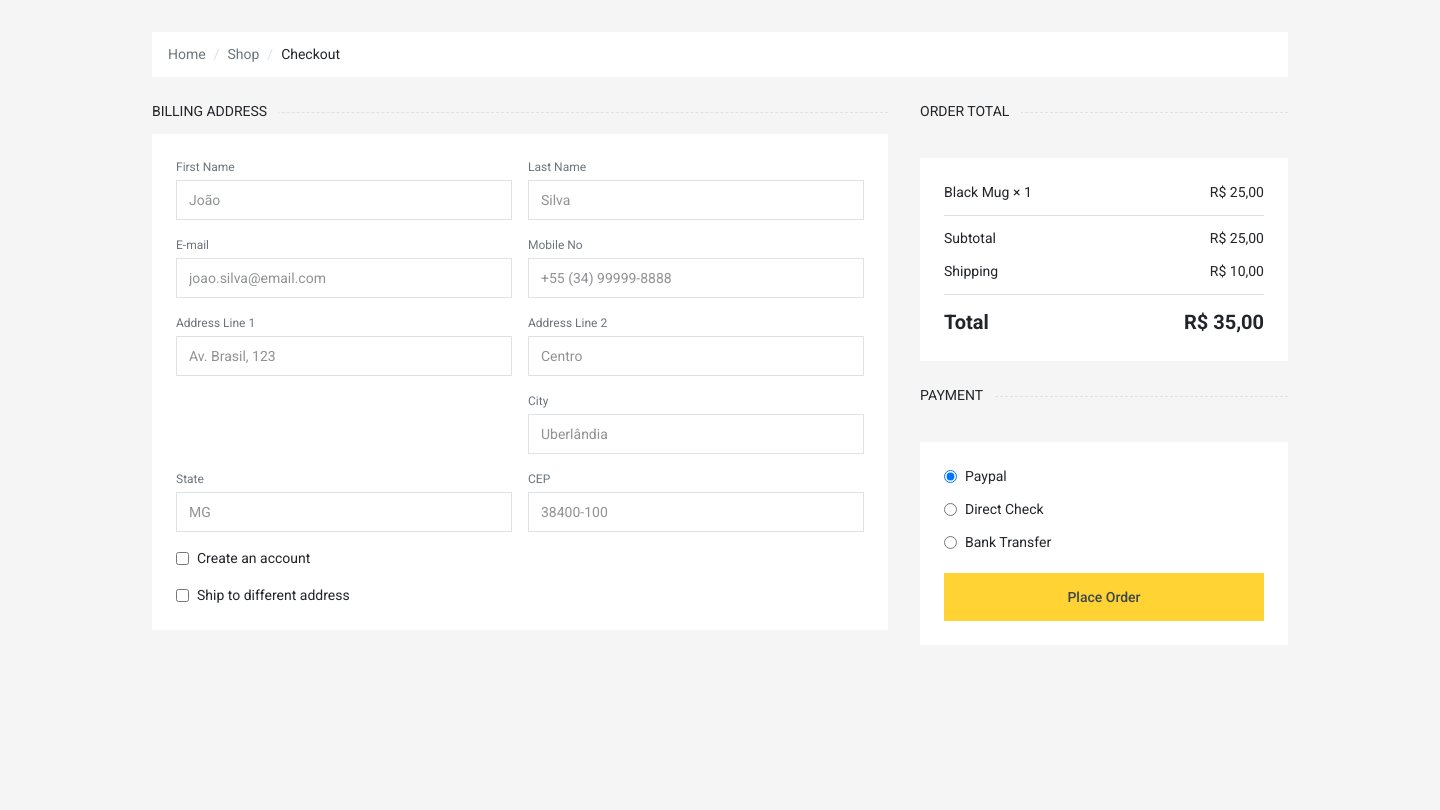
Test case: Checkout › reveals the shipping address fields when asked to ship to a different address
Expected: the text "Black Mug × 1" is shown, [944,182,1032,203]
Expected: the heading "Shipping Address" is not shown
Click the checkbox labelled "Ship to different address": (182, 596) [176,589,189,602]
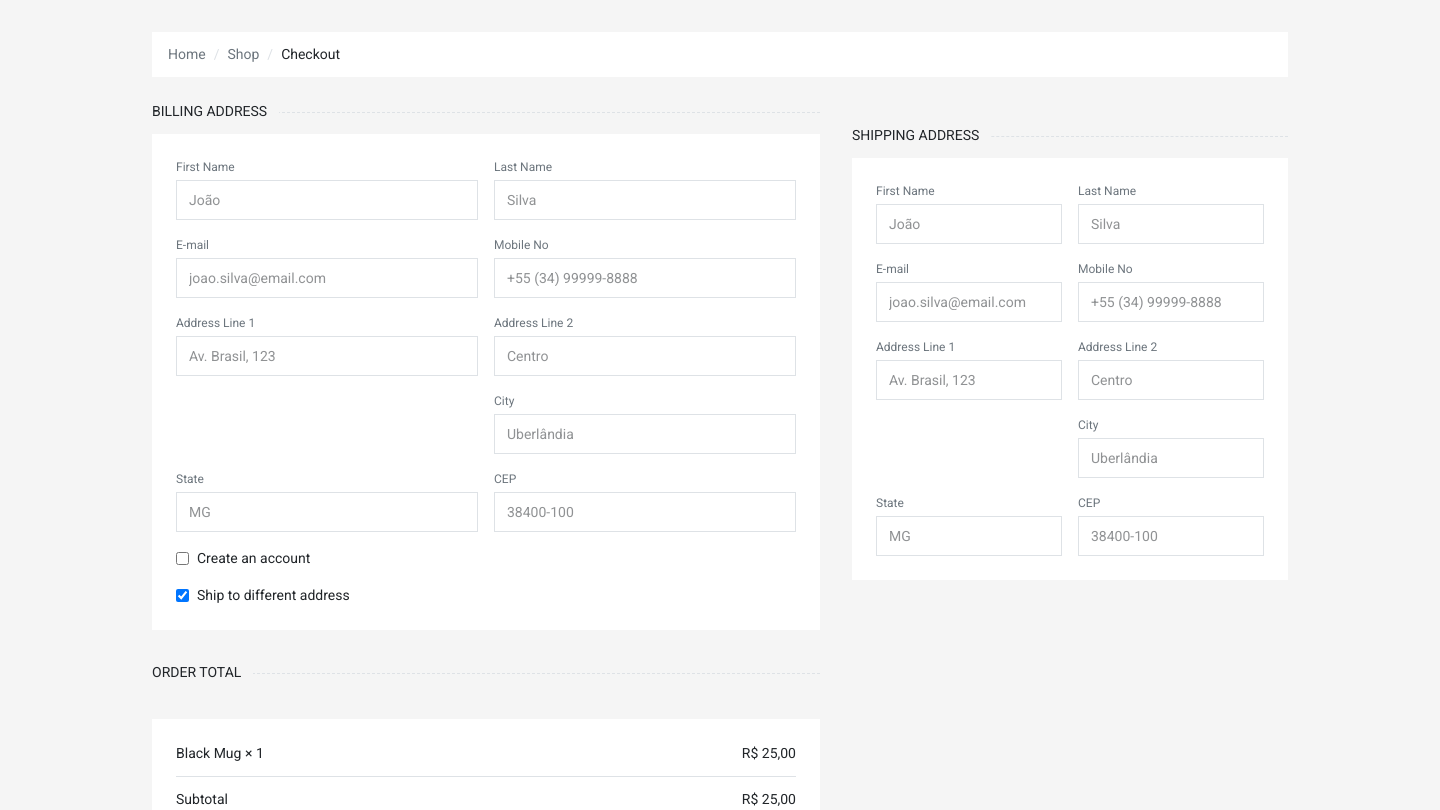
Expected: the heading "Shipping Address" is shown, [852,125,991,146]
